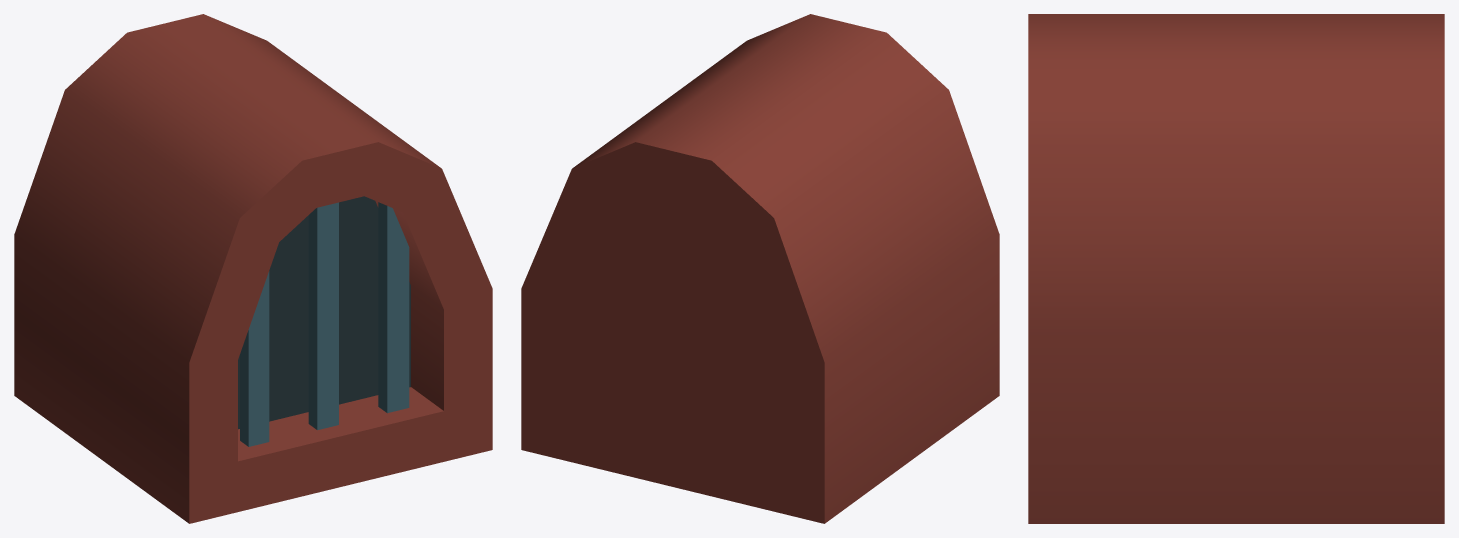
File: wallWindow.fbx
3 renders of one model, left to right at view 1: azimuth 30°, elevation 25°; view 2: azimuth 150°, elevation 25°; view 3: azimuth 270°, elevation 25°, orthographic. The views are drawn at different scales.
Visible parts, largest first — view 1: wallWindow; view 2: wallWindow; view 3: wallWindow.
Part boxes in pixels (x1=…): wallWindow: x1=14, y1=14, x2=492, y2=523; wallWindow: x1=521, y1=14, x2=999, y2=523; wallWindow: x1=1028, y1=14, x2=1444, y2=523.
Size of the model in its own units: 49.41 by 52.31 by 49.41.
Materials: 1 (1 with a texture image).
